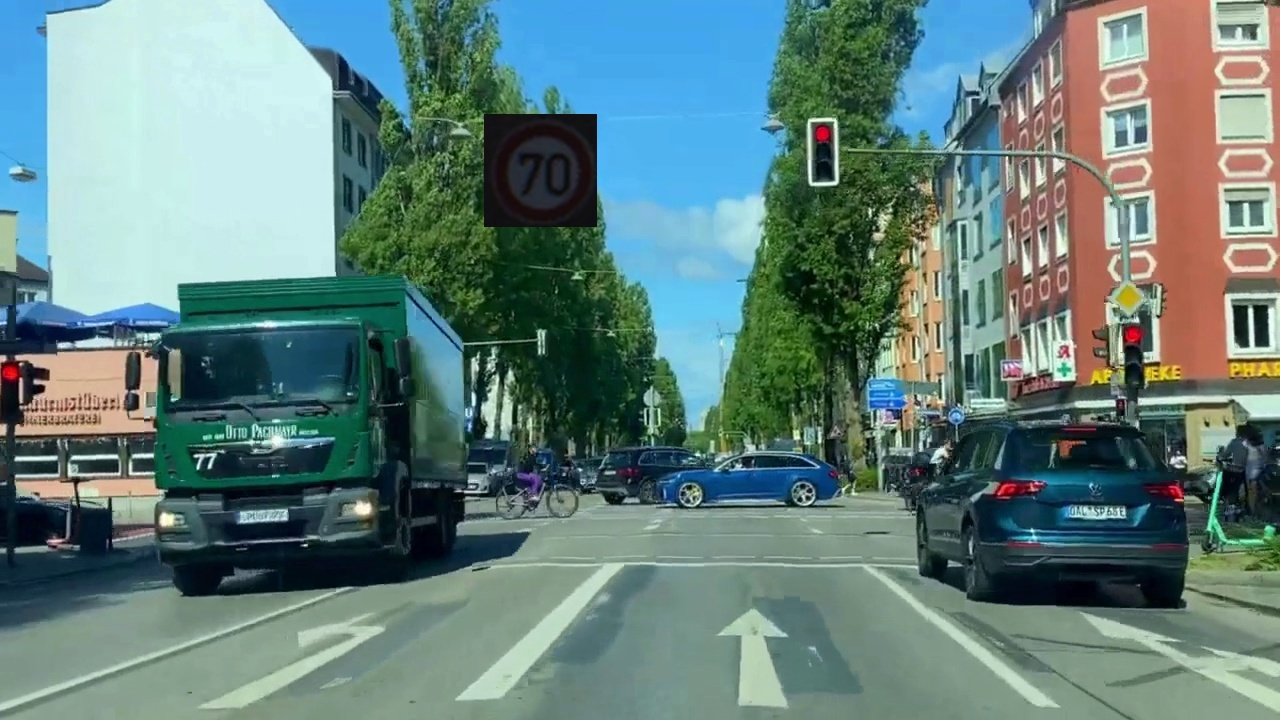Speed 70: (484, 114, 597, 227)
